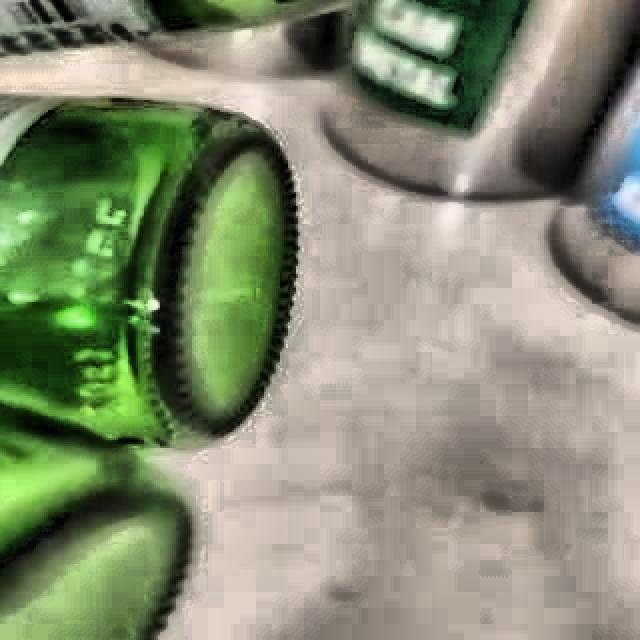glass: (0, 94, 299, 640)
